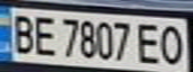0: (93, 18, 115, 61)
7: (54, 15, 81, 58), (112, 19, 136, 62)
8: (78, 17, 96, 60)
B: (6, 10, 39, 55)
E: (133, 19, 166, 65), (30, 12, 57, 57)
O: (154, 21, 190, 66)
